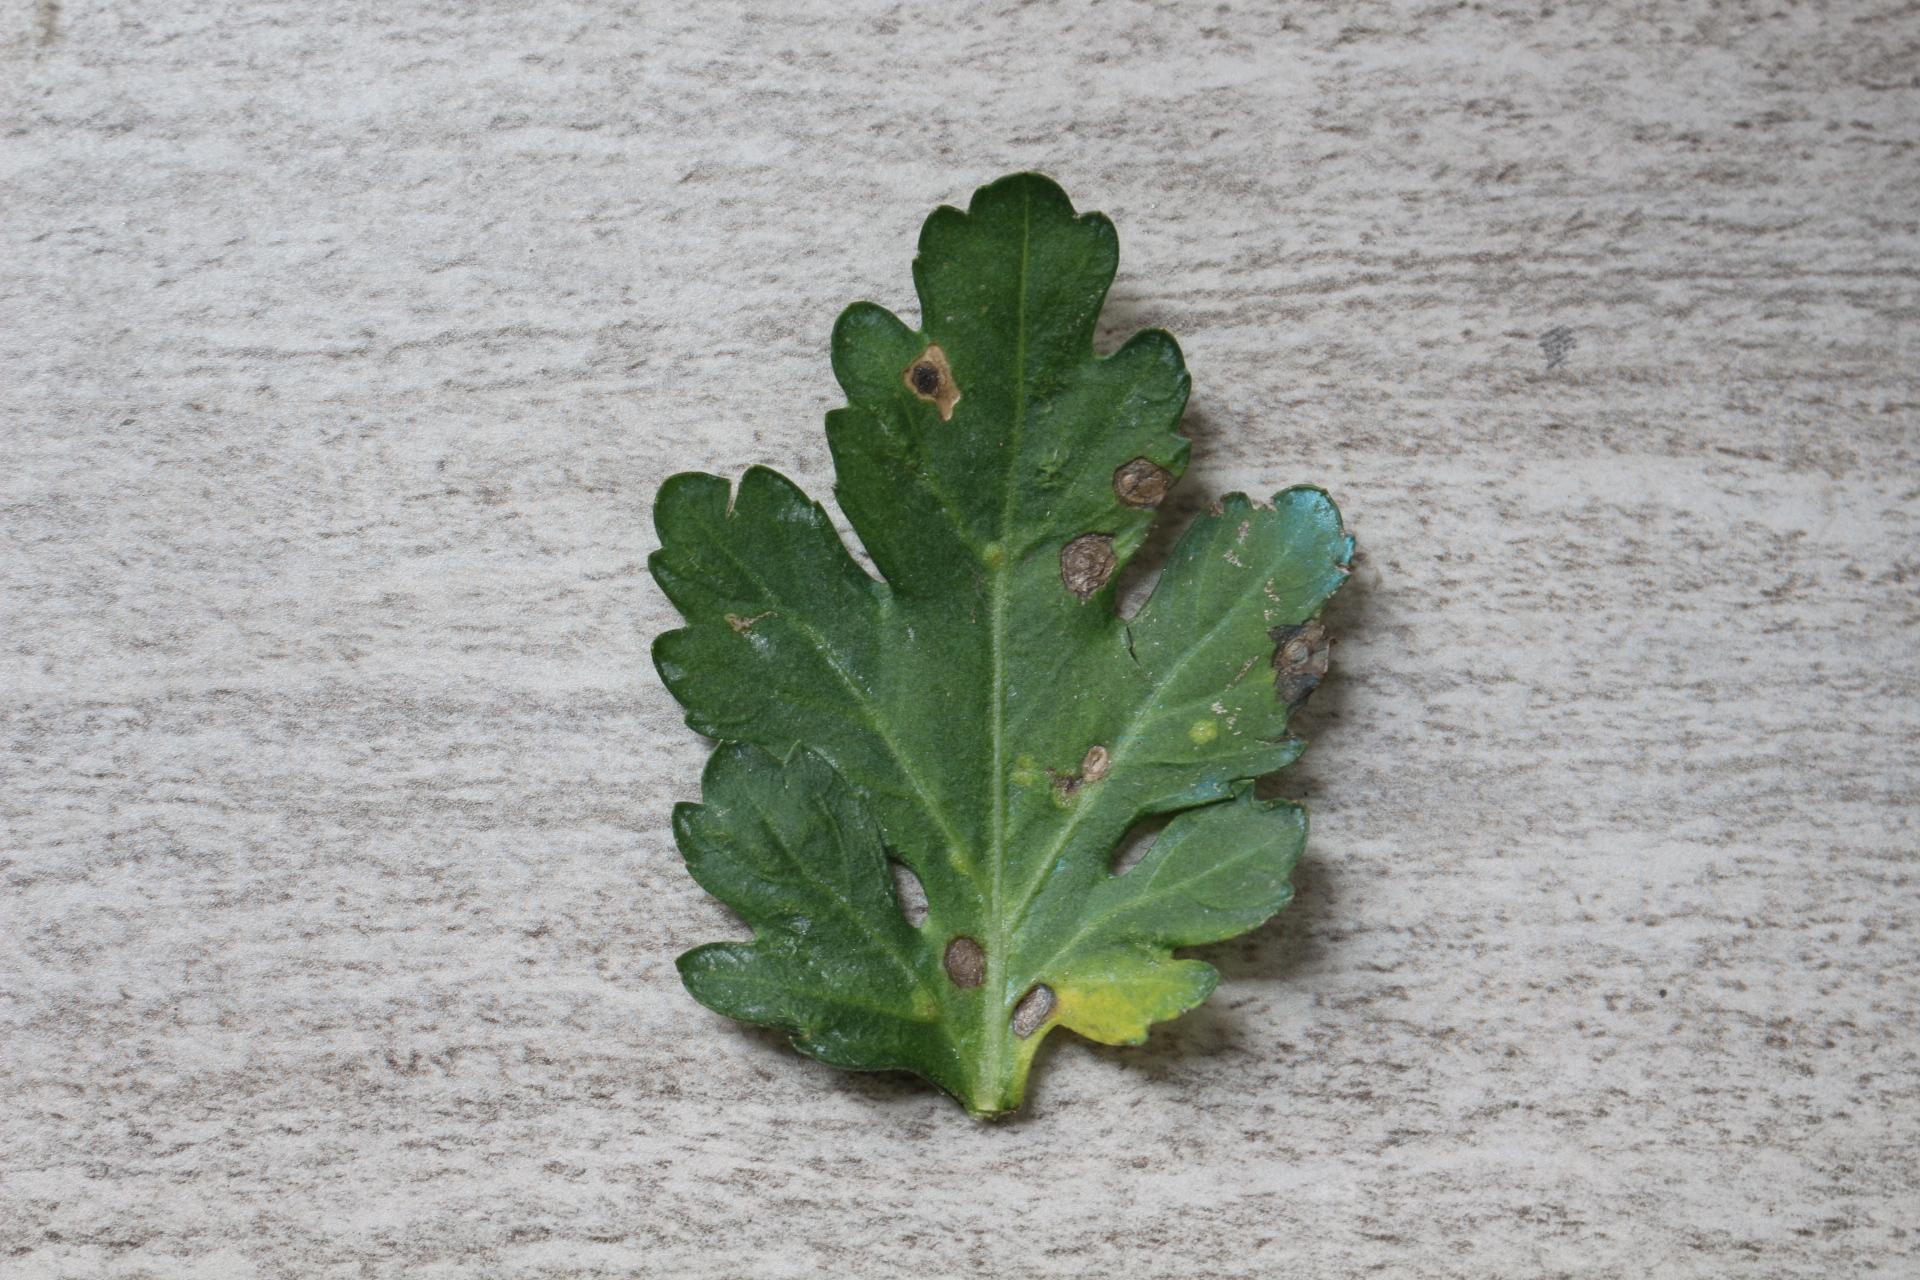namden: (901, 344, 974, 427), (1110, 450, 1187, 513), (1054, 529, 1119, 594), (934, 936, 996, 994), (1009, 984, 1059, 1034), (1074, 741, 1110, 791)
namsung: (1184, 714, 1221, 749)
